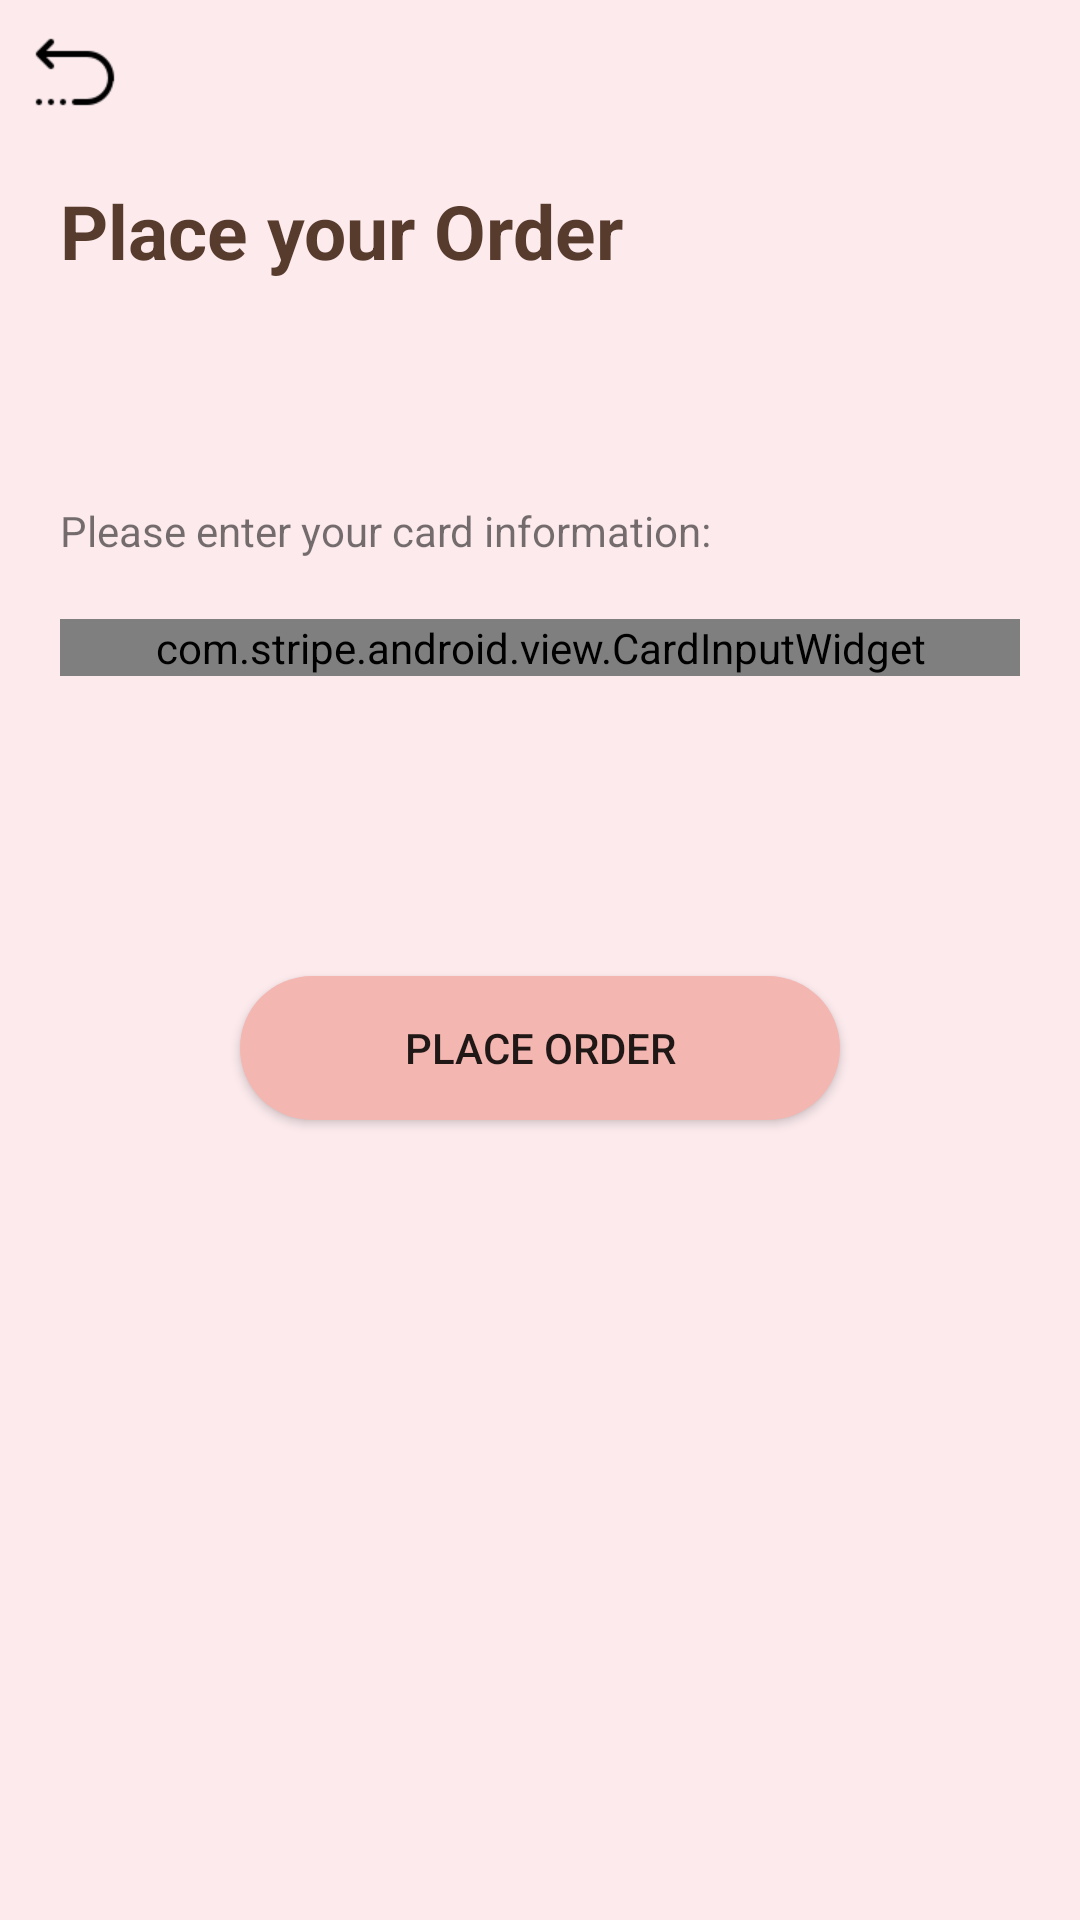

Screen size 1080x1920. Icon name, then its center in pixels as (x,y):
return: (75,72)
